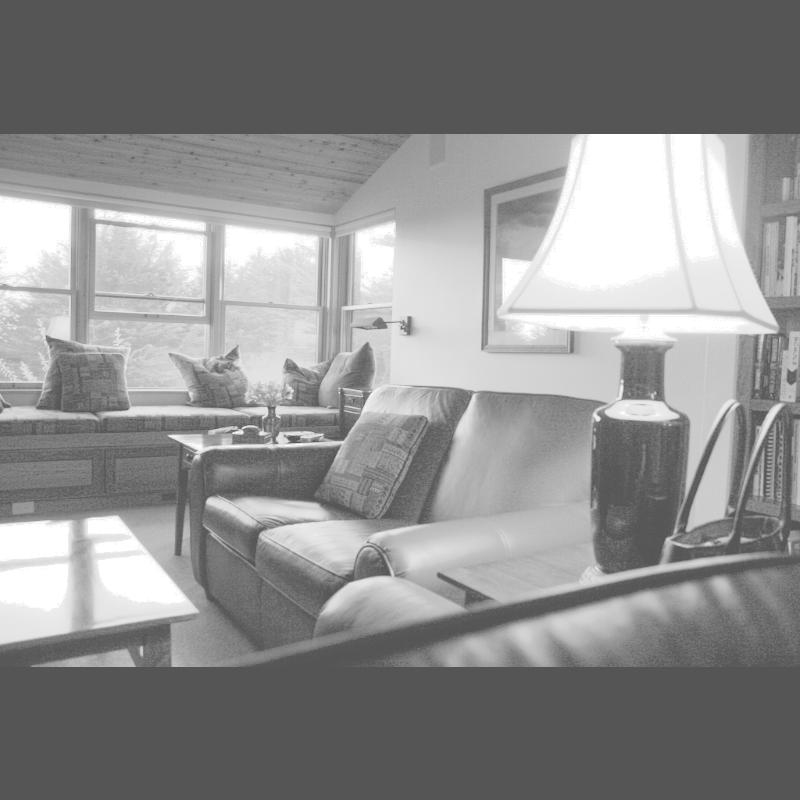pillow: (303, 411, 425, 516), (30, 329, 132, 415), (170, 340, 251, 404), (318, 344, 374, 397), (287, 355, 329, 405)
